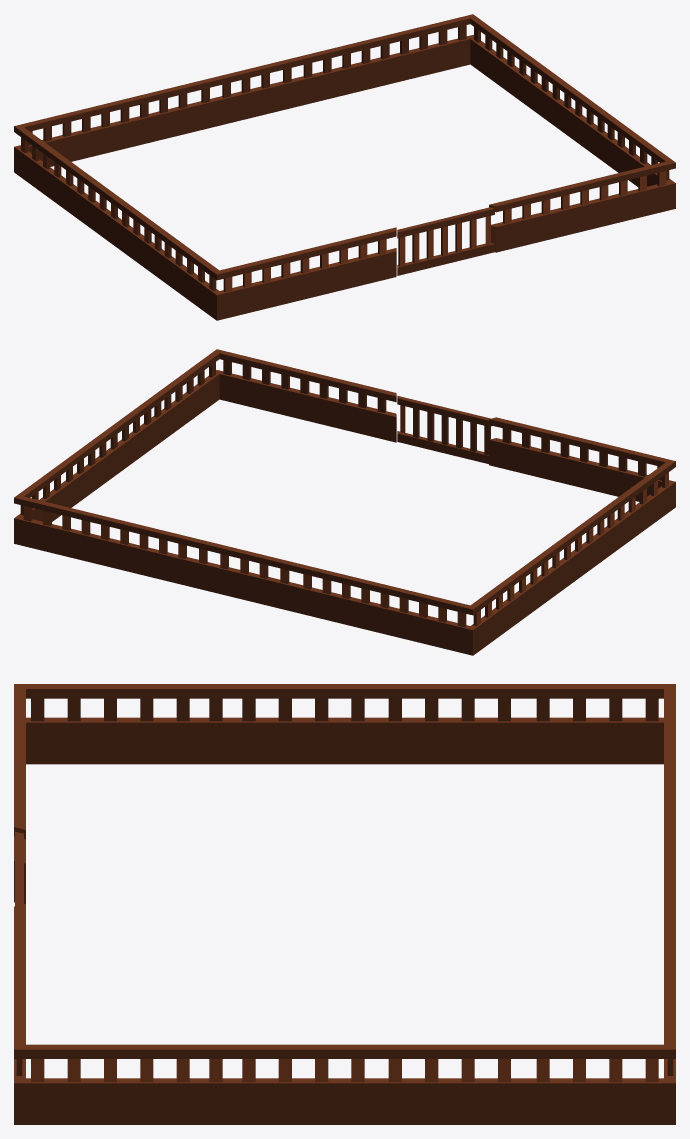
The model's file is Cerca.fbx.
3 views of the same model, one above another, from view 1: azimuth 30°, elevation 25°; view 2: azimuth 150°, elevation 25°; view 3: azimuth 270°, elevation 25° (orthographic). The views are drawn at different scales.
Visible parts, largest first — view 1: casa_madeira_exemplo_001; view 2: casa_madeira_exemplo_001; view 3: casa_madeira_exemplo_001.
Boxes of the visible parts, <box> form: casa_madeira_exemplo_001: <box>14,14,675,320</box>; casa_madeira_exemplo_001: <box>14,349,675,655</box>; casa_madeira_exemplo_001: <box>14,684,675,1124</box>.
Bounding box in the file's own units: 1717 × 165 × 1314.
